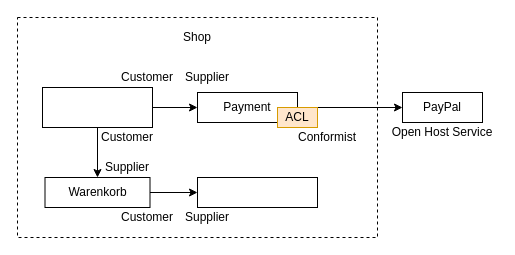
The diagram is 515 pixels wide and 255 high, and some of its shapes have lost their labels. Each missing label, with the centre of its shape:
Artikeldaten: the point at 257,192
Checkout: the point at 97,107
